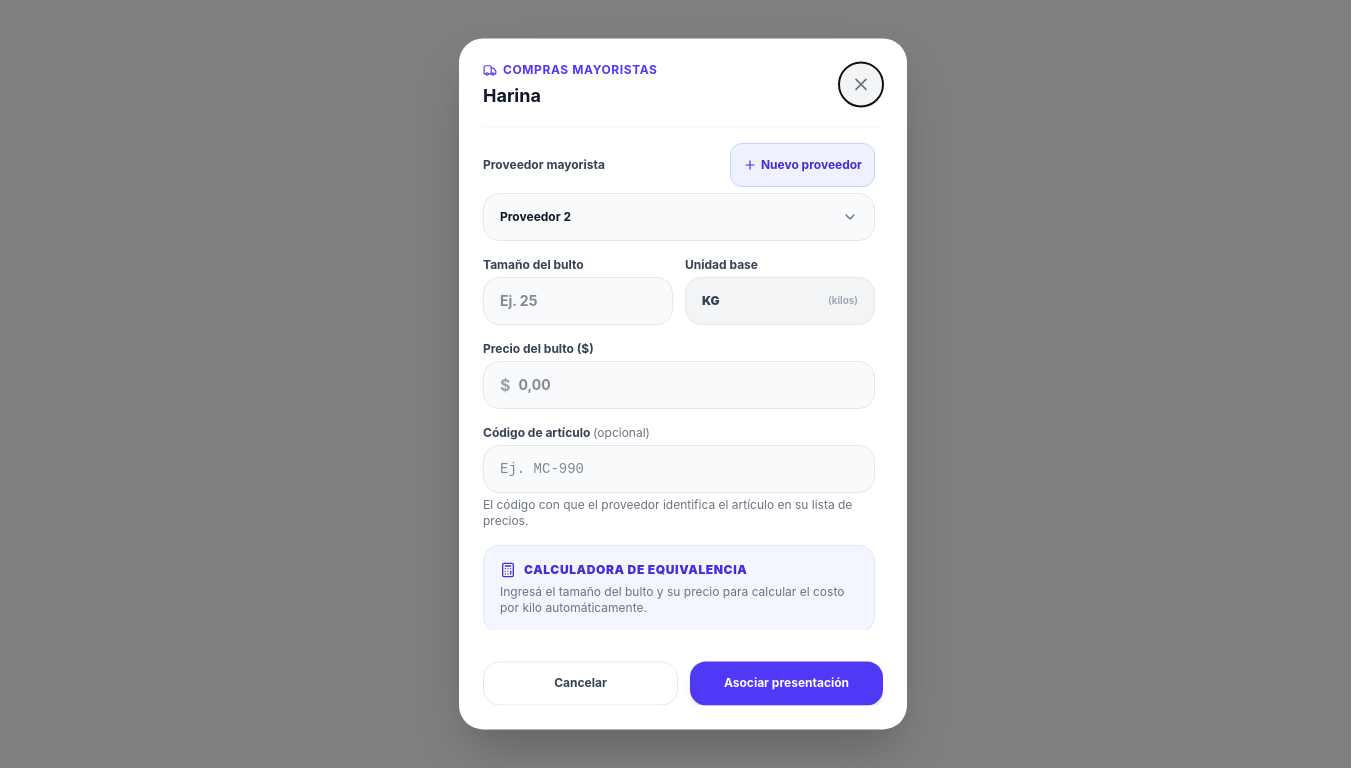
Test: SupplierPackagingModal › muestra advertencia al intentar cerrar mientras se escribe el nombre de un nuevo proveedor
Later steps or results of the test are not shown.
Note: Abrir el sub-formulario para nuevo proveedor
Click the button "Nuevo proveedor" at (802, 165), box [730,143,875,187]
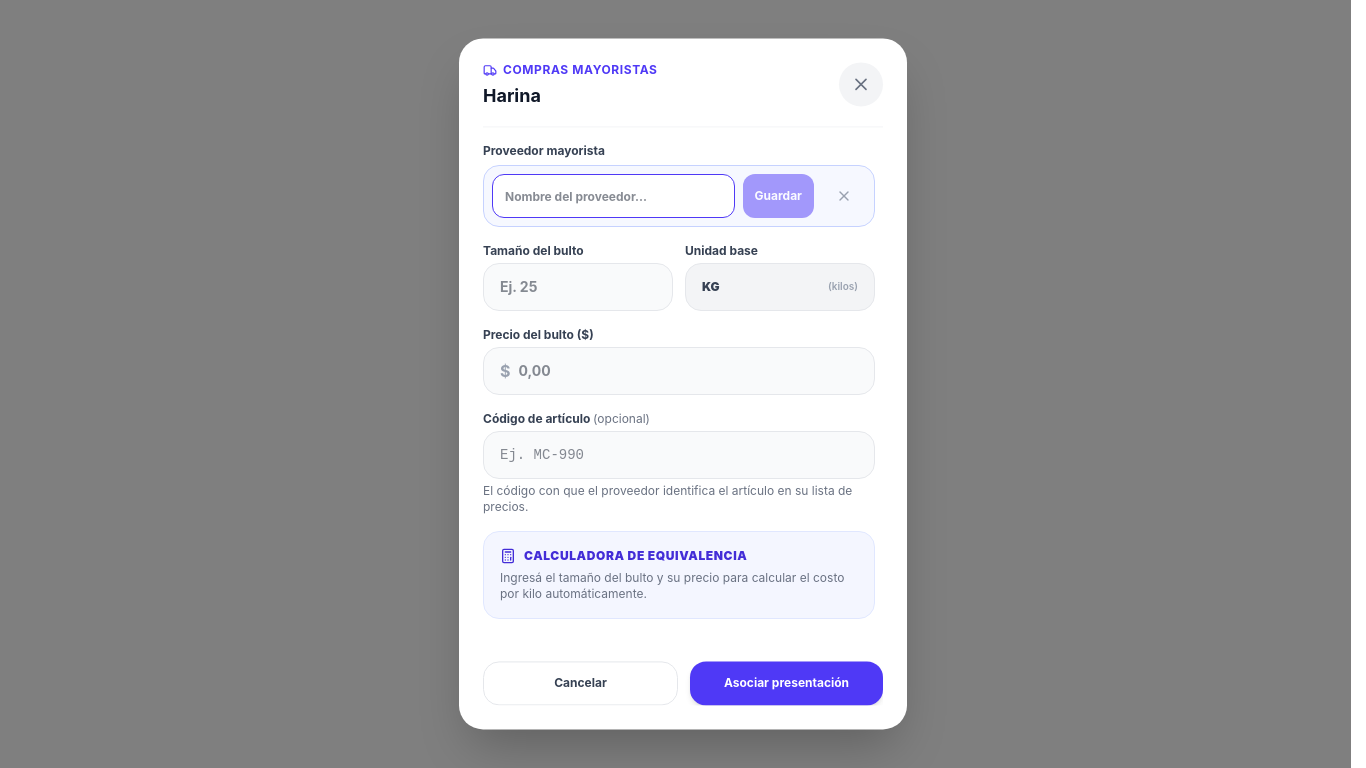
Note: Escribir en el campo de texto del nuevo proveedor
Type "Molino Nuevo S.A." into the field with placeholder "Nombre del proveedor..." at (613, 196), box [492,174,734,218]
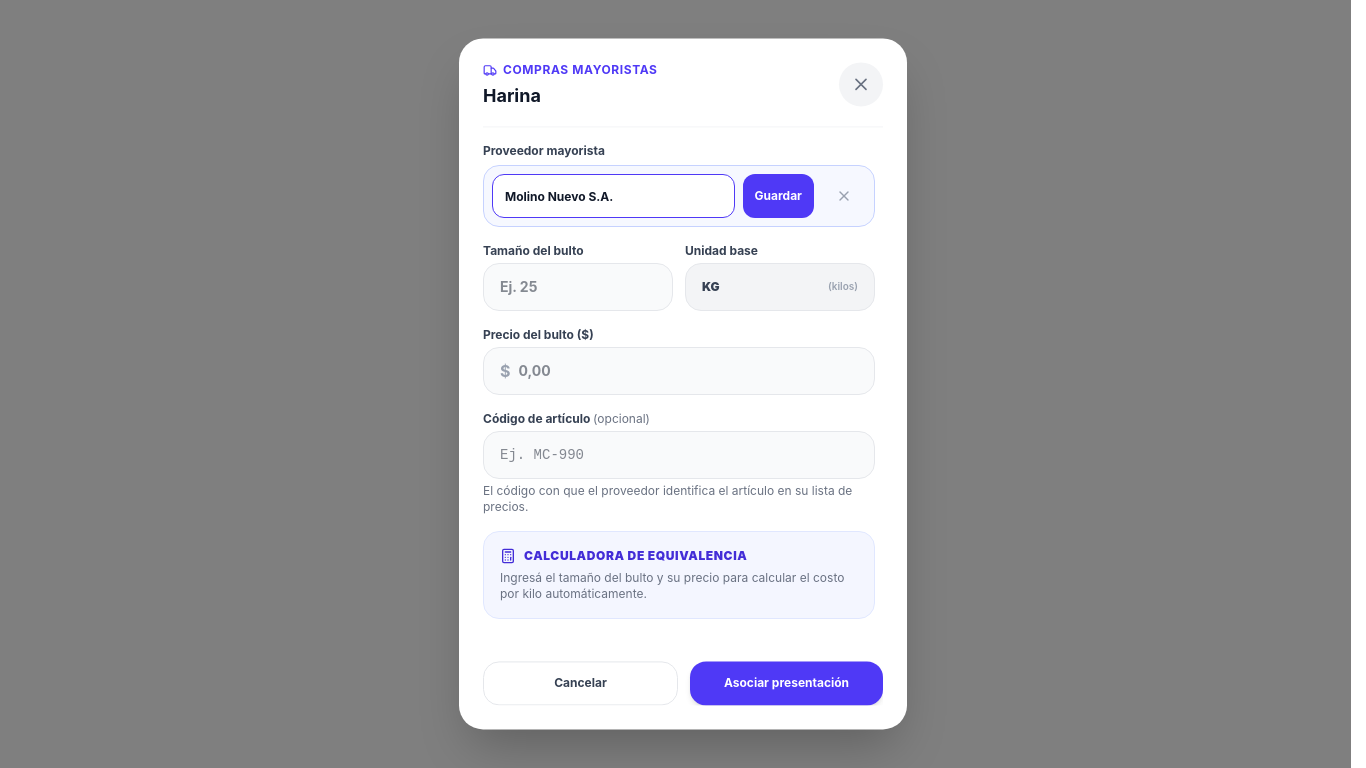
Note: Intentar cerrar haciendo clic en Cancelar
Click the button "Cancelar" at (580, 684), box [483,662,678,706]
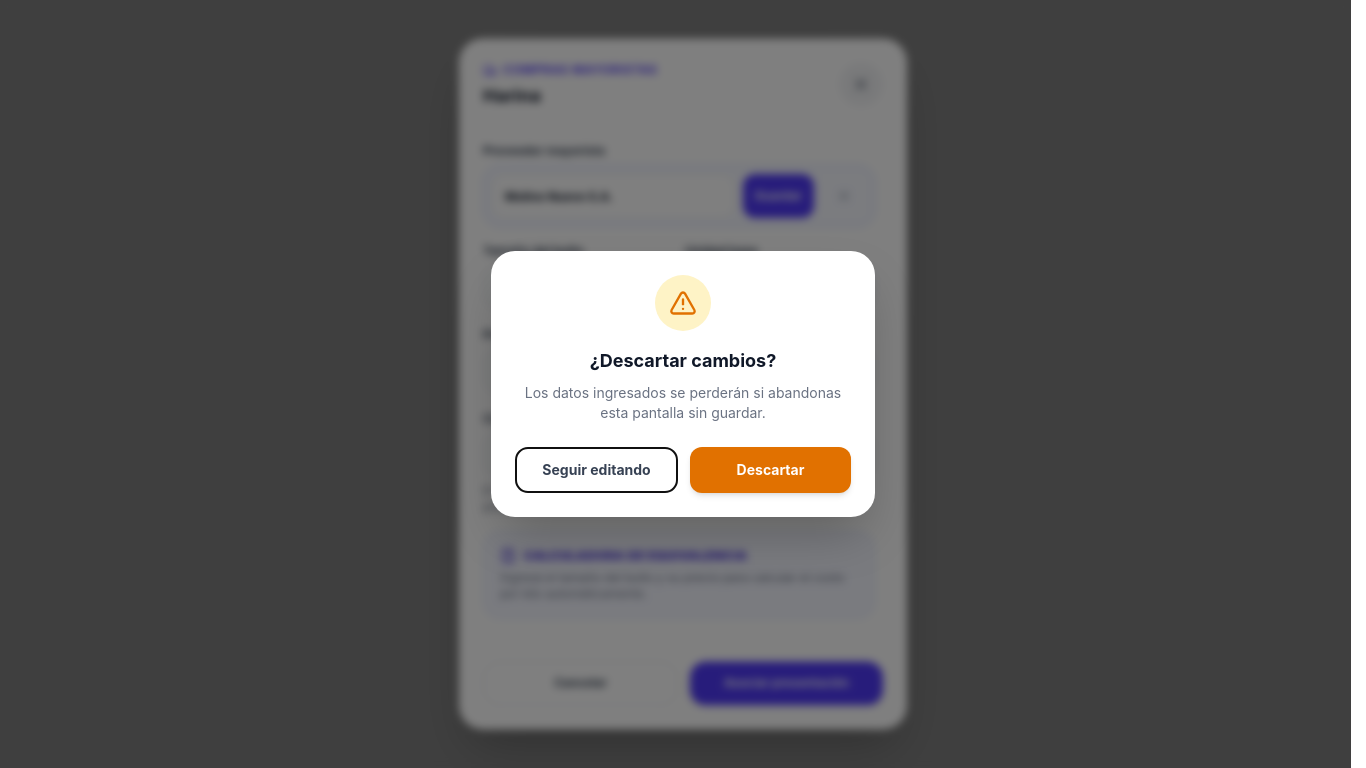
Now the heading "¿Descartar cambios?" is shown, box [590,350,776,371]
